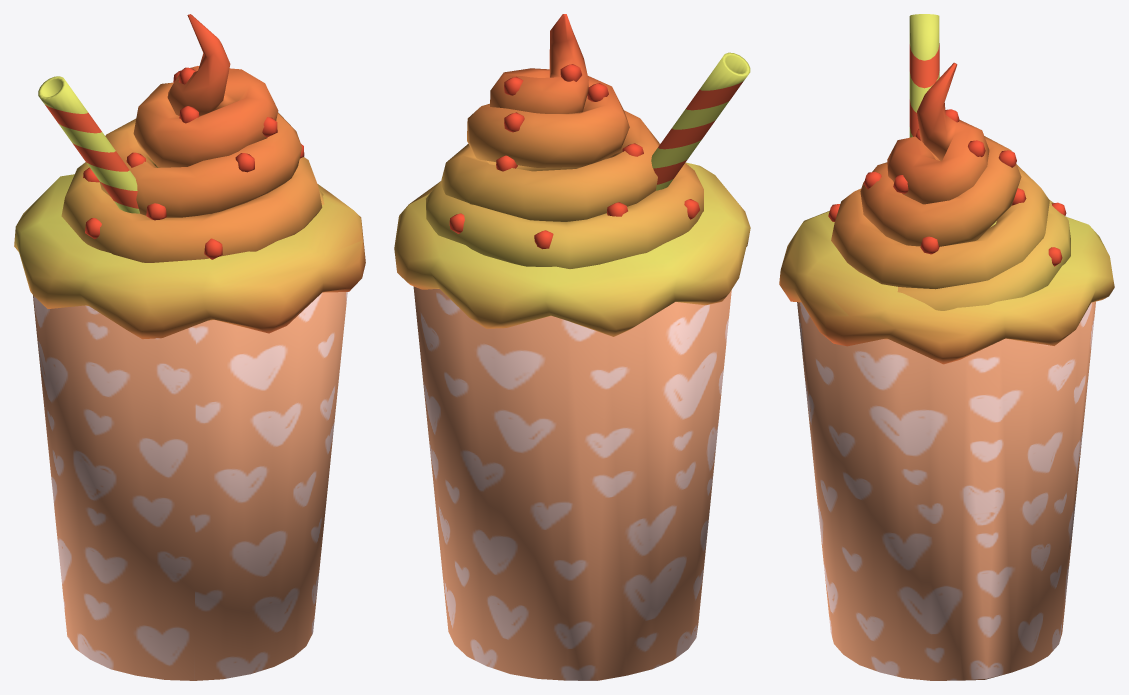
The model's file is Milkshake-2.fbx.
3 views of the same model, side by side, from view 1: azimuth 30°, elevation 25°; view 2: azimuth 150°, elevation 25°; view 3: azimuth 270°, elevation 25° (orthographic). The views are drawn at different scales.
Visible parts, largest first — view 1: Milkshake-2; view 2: Milkshake-2; view 3: Milkshake-2.
Part boxes in pixels (left/top/right/bottom): Milkshake-2: left=14, top=14, right=365, bottom=680; Milkshake-2: left=394, top=14, right=750, bottom=680; Milkshake-2: left=779, top=14, right=1114, bottom=680.
Bounding box in the file's own units: 26.6 × 49.08 × 26.08.
